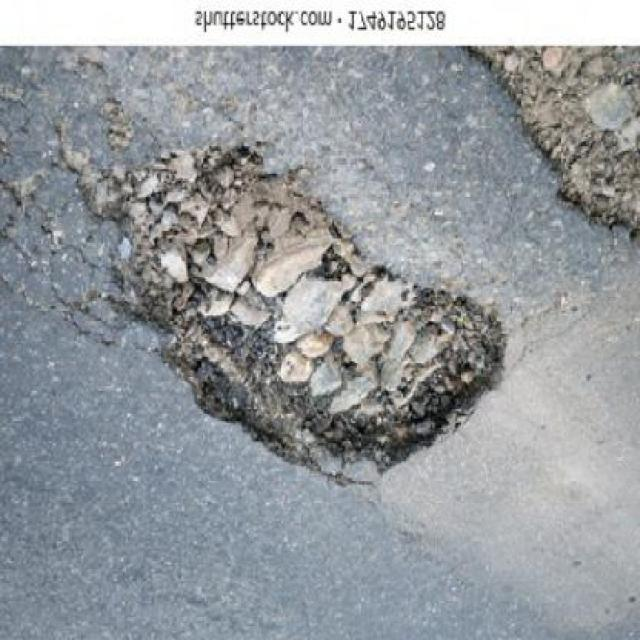pothole: (68, 133, 524, 522)
